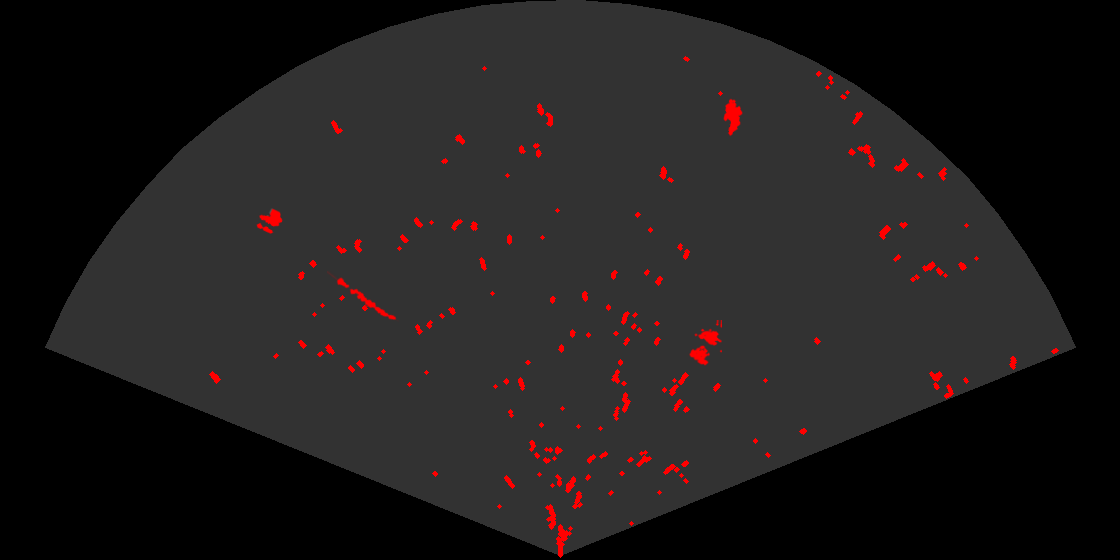AUV: (722, 97, 744, 138)
ball: (255, 207, 284, 235)
cage: (687, 320, 722, 367)
chain: (327, 271, 399, 323)
